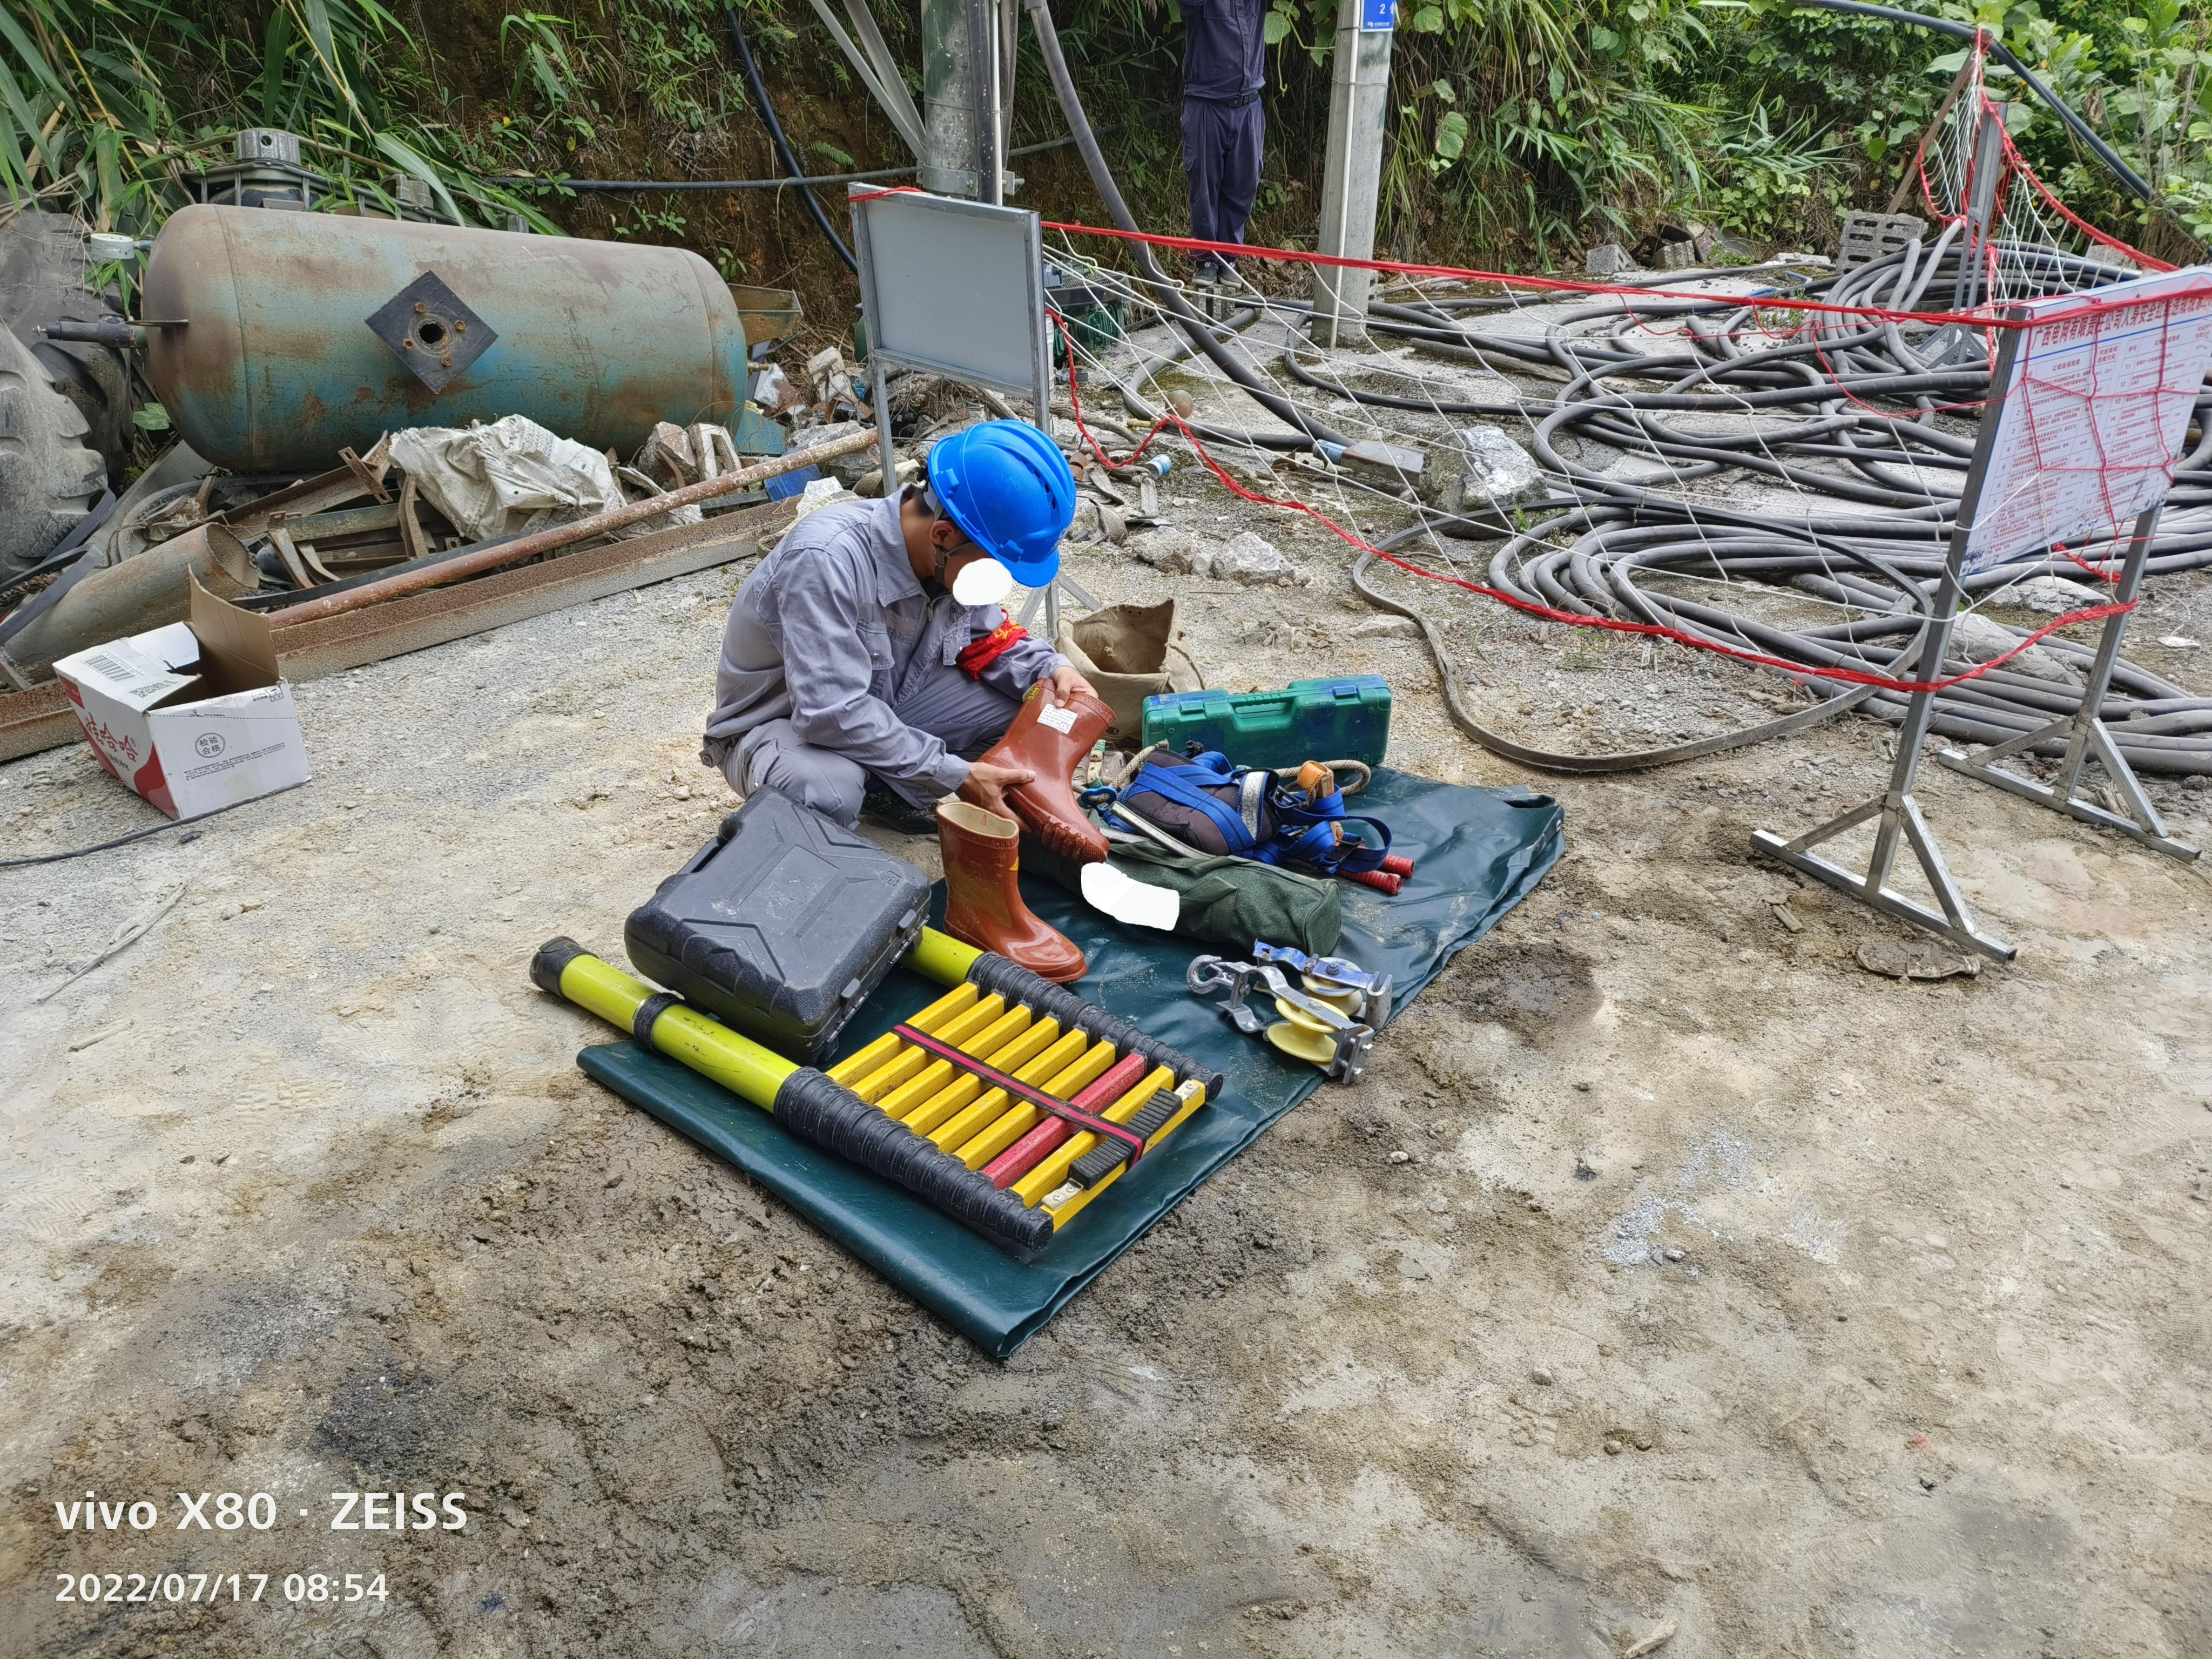halt: (911, 425, 1083, 596)
inear: (918, 509, 975, 580)
